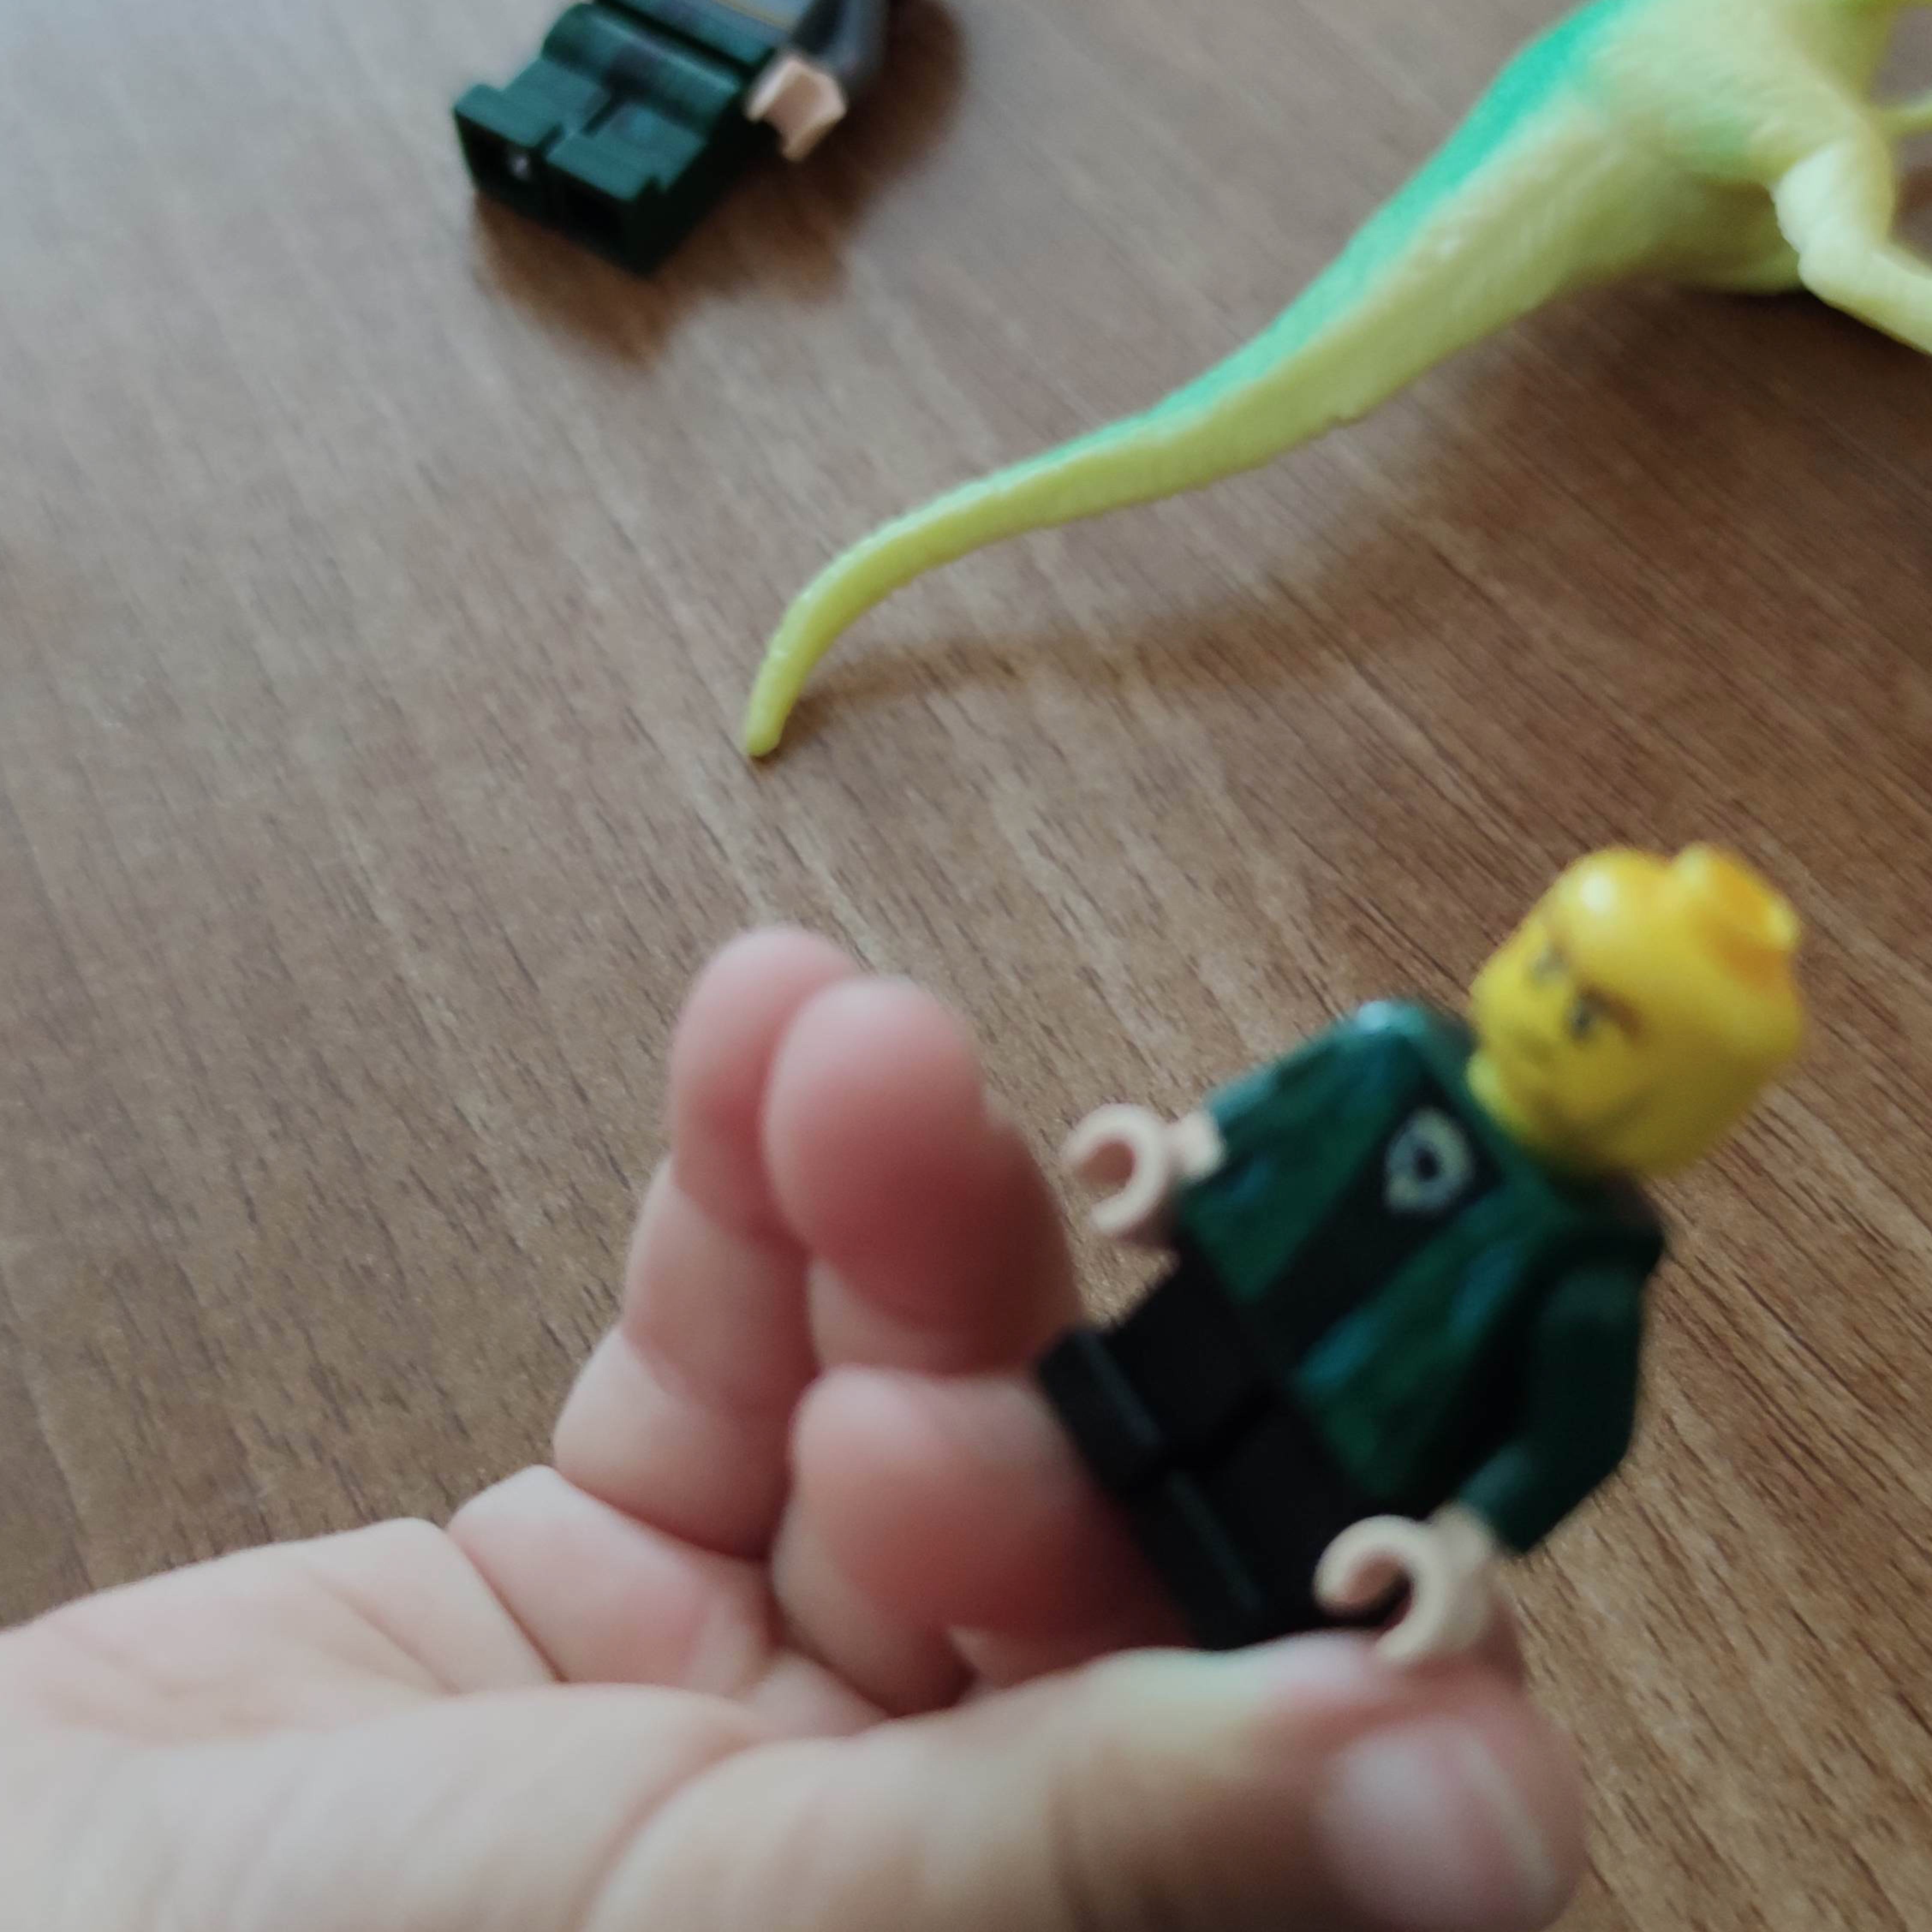lego: (1037, 833, 1812, 1670)
